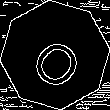O_NE: (23, 22, 87, 88)
